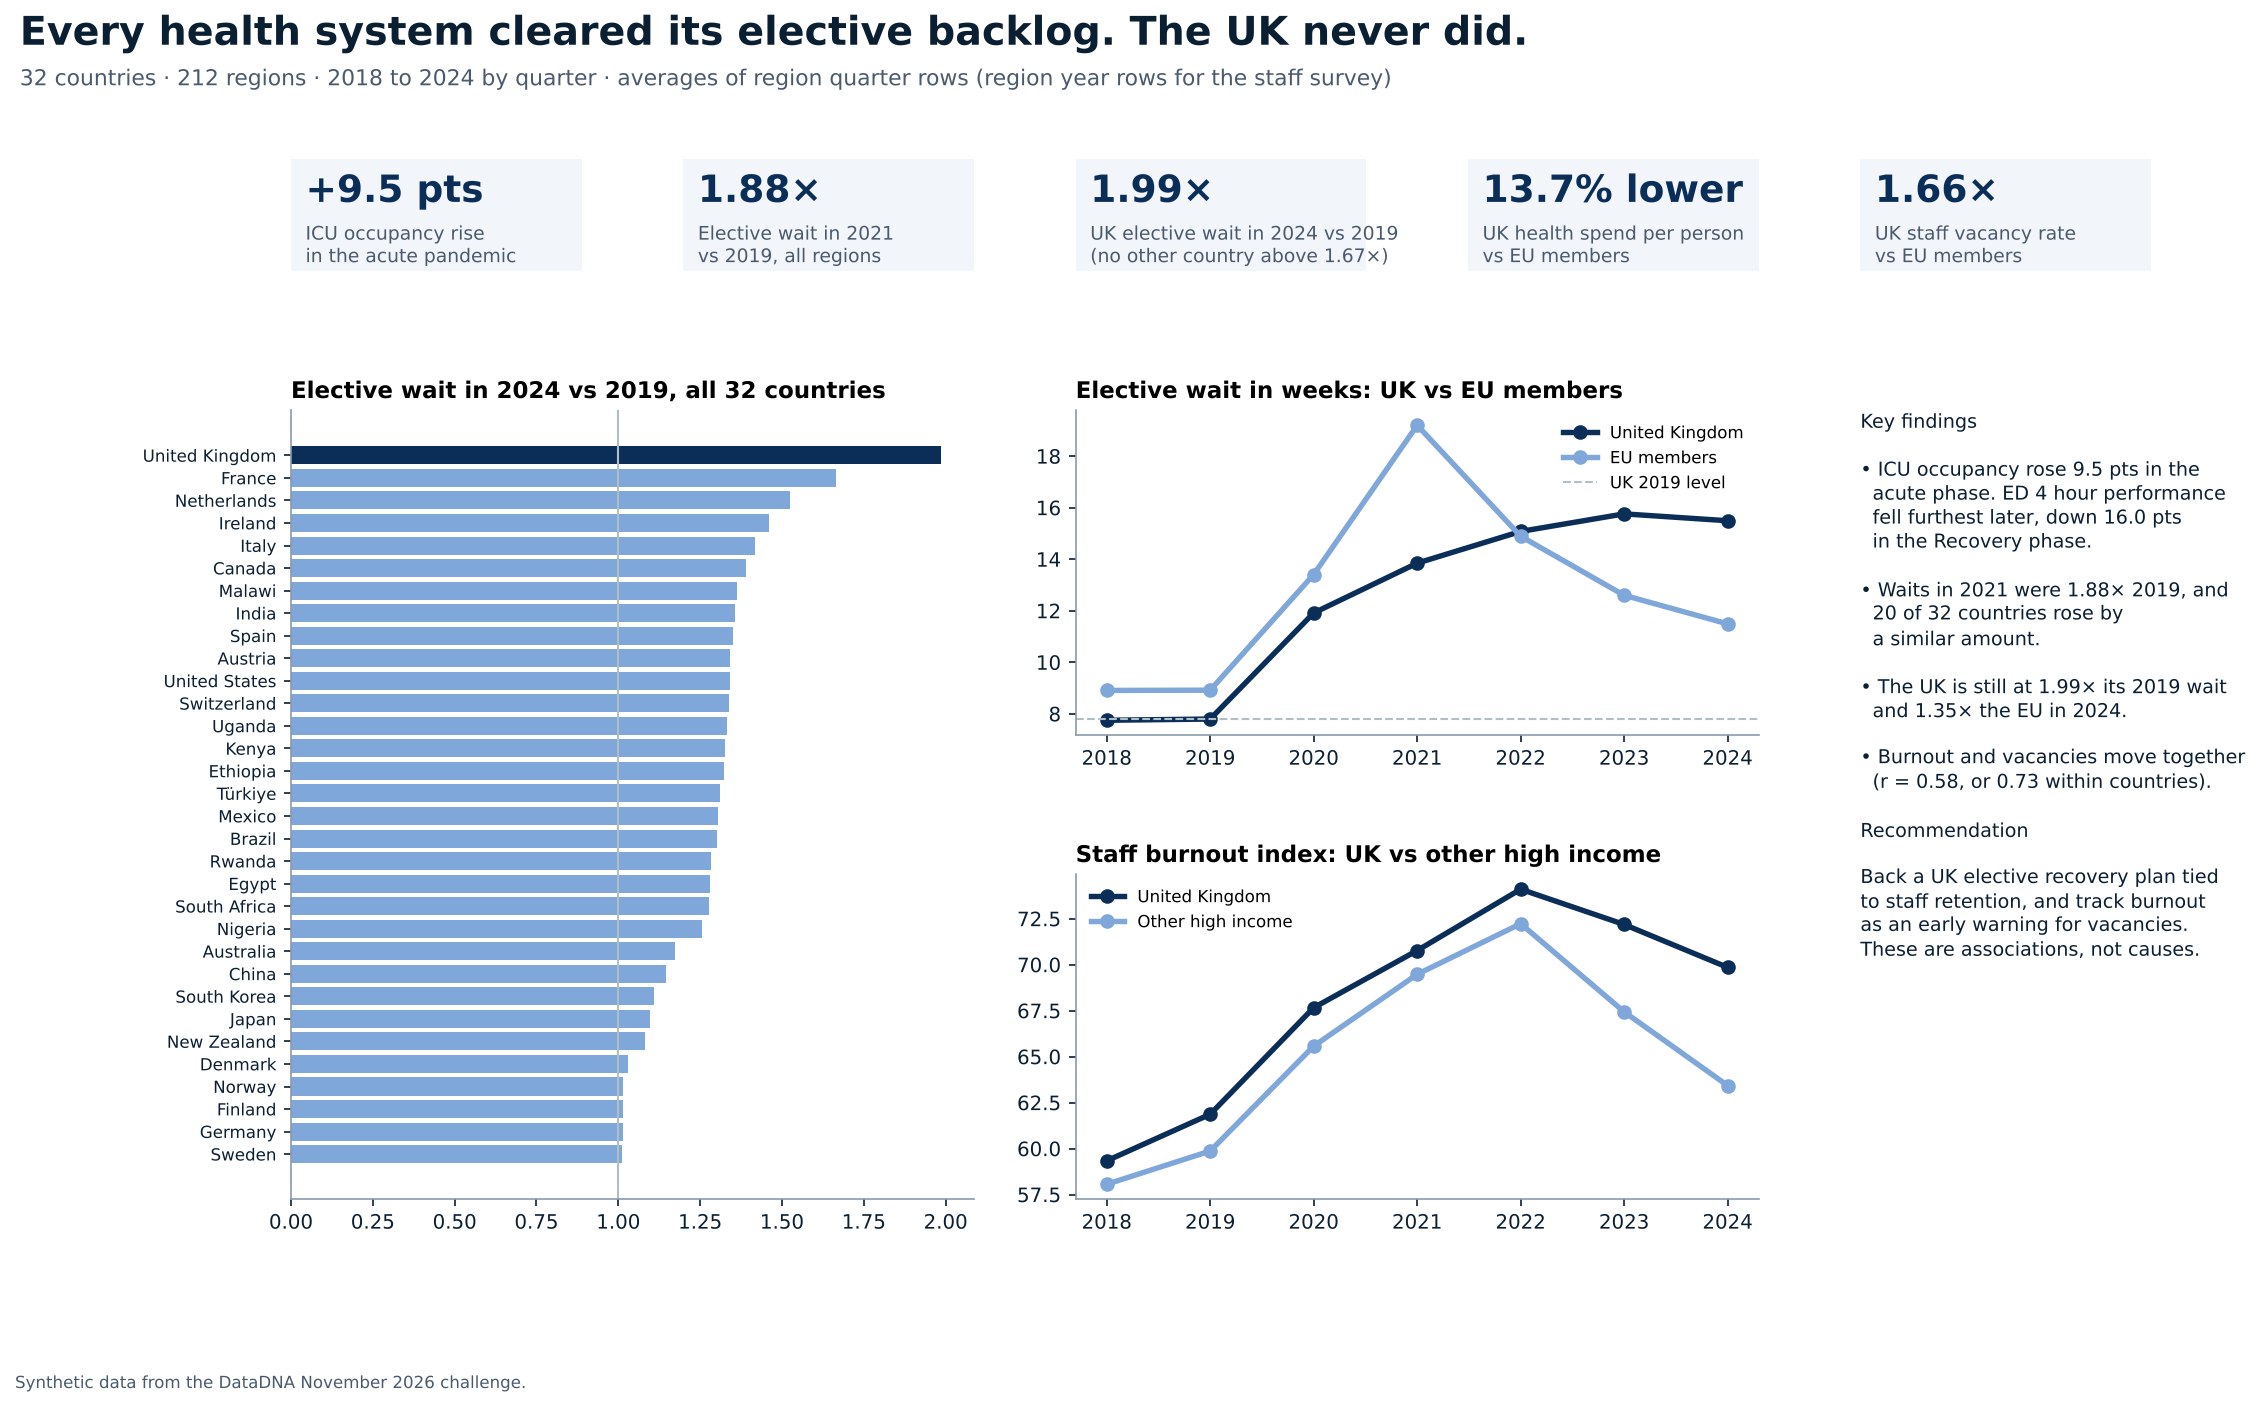

What the dashboard file says about the page in this screenshot:
{"tool":"powerbi","page":{"name":"Elective Recovery","canvas":[1280,720],"ordinal":2},"visuals":[{"type":"image","box":[24,10,56,56],"z":1000},{"type":"textbox","box":[88,4,1168,46],"z":1001},{"type":"textbox","box":[88,50,1168,26],"z":1002},{"type":"textbox","box":[24,690,1232,28],"z":1003},{"type":"card","title":"Elective wait in 2021 vs 2019, all regions","fields":{"Values":["_Measures.Wait Ratio 2021 to 2019"]},"box":[24,80,240,92],"z":1004},{"type":"card","title":"Countries within ±0.3 of that ratio","fields":{"Values":["_Measures.Similar Rise Label"]},"box":[272,80,240,92],"z":1005},{"type":"card","title":"Nordics and Germany: second half of 2022 vs 2019","fields":{"Values":["_Measures.Nordics & Germany H2 2022 vs 2019"]},"box":[520,80,240,92],"z":1006},{"type":"card","title":"UK wait in 2024 vs UK in 2019","fields":{"Values":["_Measures.UK Wait 2024 vs UK 2019"]},"box":[768,80,240,92],"z":1007},{"type":"card","title":"UK vs EU members, 2024","fields":{"Values":["_Measures.UK to EU Wait Ratio 2024"]},"box":[1016,80,240,92],"z":1008},{"type":"barChart","title":"Elective wait in 2021 vs 2019, by country","fields":{"Category":["dim_country.country_name"],"Y":["_Measures.Wait Ratio 2021 Chart"]},"box":[24,184,400,504],"z":1009},{"type":"lineChart","title":"Sweden, Norway, Denmark, Finland and Germany: elective wait in weeks from 2021","fields":{"Category":["dim_date.year_quarter"],"Y":["_Measures.Avg Elective Wait (weeks)"],"Series":["dim_country.country_name"]},"box":[436,184,820,250],"z":1010},{"type":"tableEx","title":"Back to their 2019 level by the second half of 2022","fields":{"Values":["dim_country.country_name","_Measures.Wait 2019","_Measures.Wait 2021","_Measures.Wait H2 2022","_Measures.Wait H2 2022 vs 2019"]},"box":[436,442,404,246],"z":1011},{"type":"clusteredColumnChart","title":"UK wait vs its own 2019 level and vs EU members","fields":{"Category":["dim_date.year"],"Y":["_Measures.UK Wait vs UK 2019","_Measures.UK to EU Wait Ratio"]},"box":[852,442,404,246],"z":1012}]}

Visuals, with their boxes on the page's 1280x720 design canvas (x1, y1, x2, y2). These are canvas units, not pixel positions in the 2260x1407 screenshot, which may show the page scaled, cropped or inside an application window:
image: rect(24, 10, 80, 66)
textbox: rect(88, 4, 1256, 50)
textbox: rect(88, 50, 1256, 76)
textbox: rect(24, 690, 1256, 718)
"Elective wait in 2021 vs 2019, all regions" card: rect(24, 80, 264, 172)
"Countries within ±0.3 of that ratio" card: rect(272, 80, 512, 172)
"Nordics and Germany: second half of 2022 vs 2019" card: rect(520, 80, 760, 172)
"UK wait in 2024 vs UK in 2019" card: rect(768, 80, 1008, 172)
"UK vs EU members, 2024" card: rect(1016, 80, 1256, 172)
"Elective wait in 2021 vs 2019, by country" barChart: rect(24, 184, 424, 688)
"Sweden, Norway, Denmark, Finland and Germany: elective wait in weeks from 2021" lineChart: rect(436, 184, 1256, 434)
"Back to their 2019 level by the second half of 2022" tableEx: rect(436, 442, 840, 688)
"UK wait vs its own 2019 level and vs EU members" clusteredColumnChart: rect(852, 442, 1256, 688)
